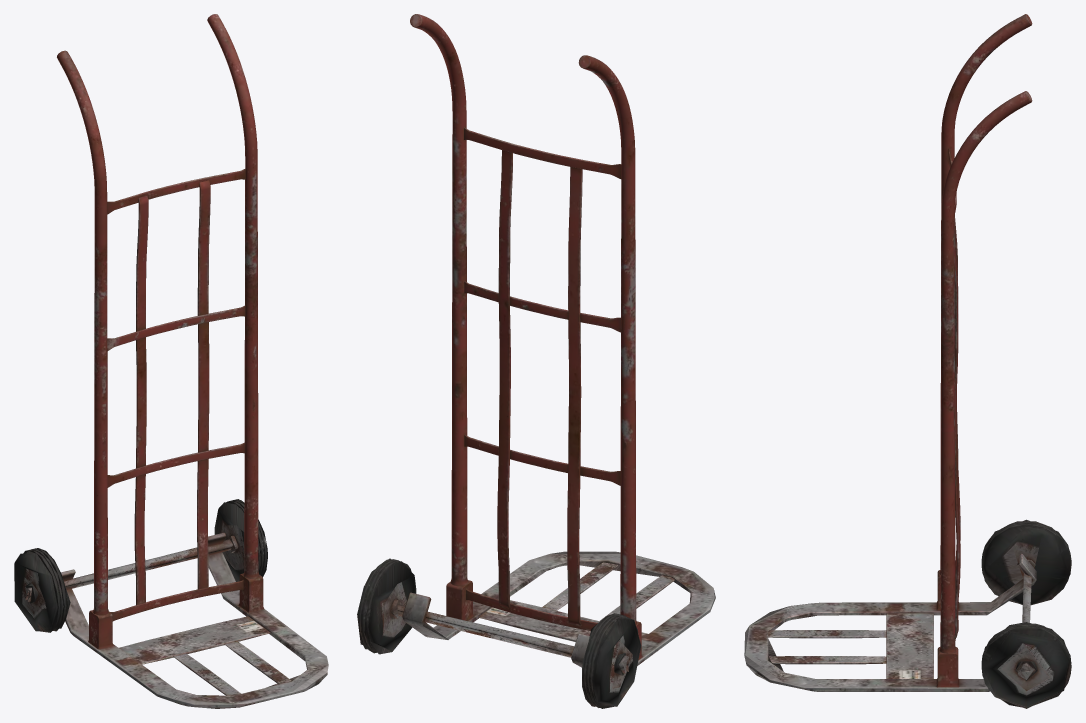
Rendered from hand_truck.glb.
The picture shows the model from 3 angles, left to right: view 1: azimuth 30°, elevation 25°; view 2: azimuth 150°, elevation 25°; view 3: azimuth 270°, elevation 25°; orthographic projection. The views are drawn at different scales.
Visible parts, largest first — view 1: hand_truck; view 2: hand_truck; view 3: hand_truck.
Boxes of the visible parts, x1,y1,x2,y2 form: hand_truck: [14, 14, 328, 708]; hand_truck: [357, 14, 715, 708]; hand_truck: [744, 14, 1071, 708].
Bounding box in the file's own units: 0.5933 × 1.4 × 0.6921.
1 material, 1 textured.
